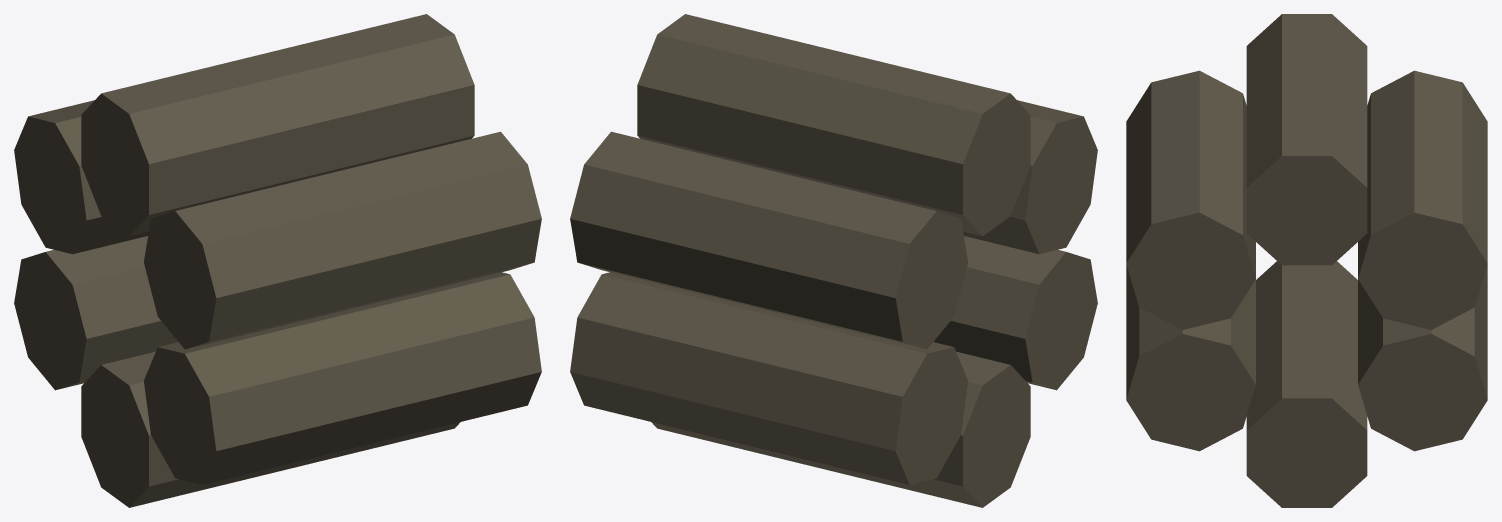
File: HeavyWeapon1_01_2.fbx
3 renders of one model, left to right at view 1: azimuth 30°, elevation 25°; view 2: azimuth 150°, elevation 25°; view 3: azimuth 270°, elevation 25°, orthographic. The views are drawn at different scales.
Parts seen in each view (by area): view 1: HeavyWeapon1_01_2; view 2: HeavyWeapon1_01_2; view 3: HeavyWeapon1_01_2.
Part boxes in pixels (box(x1,y1,x2,y2)): HeavyWeapon1_01_2: box(14, 14, 541, 507); HeavyWeapon1_01_2: box(570, 14, 1097, 507); HeavyWeapon1_01_2: box(1126, 14, 1487, 507).
Size of the model in its own units: 0.129 by 0.1491 by 0.1388.
